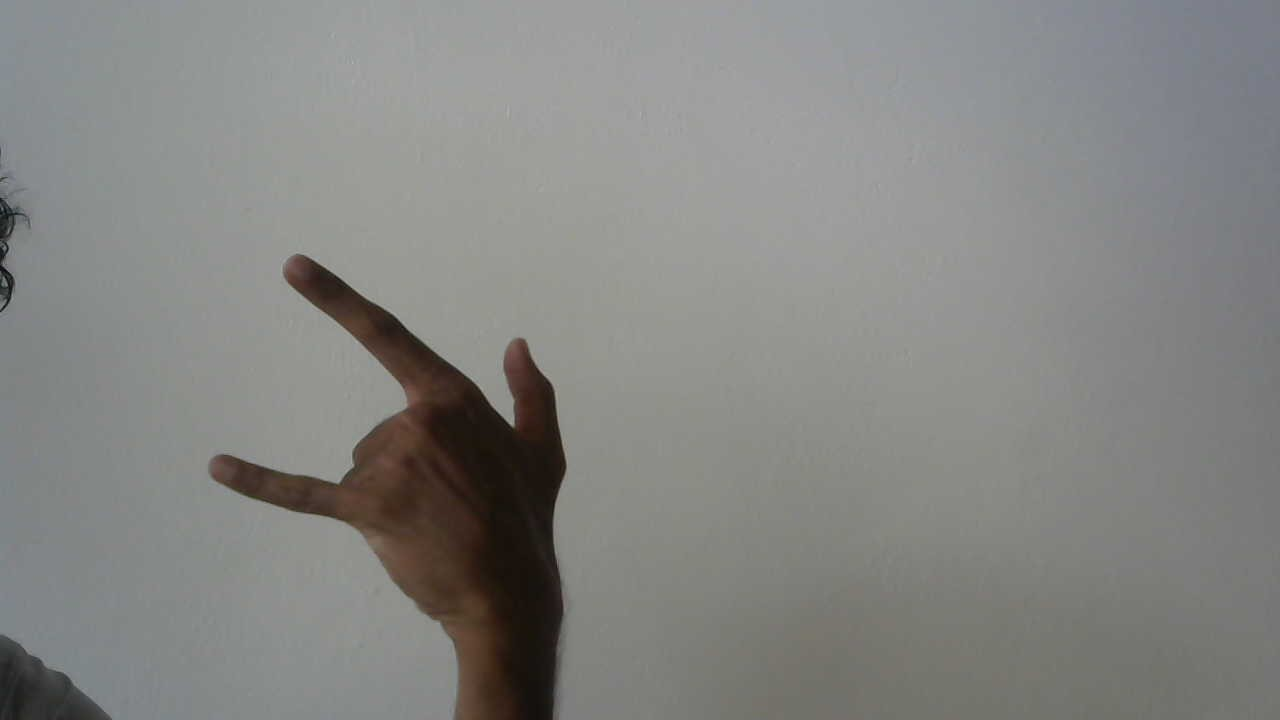iloveyou: (199, 242, 588, 636)
